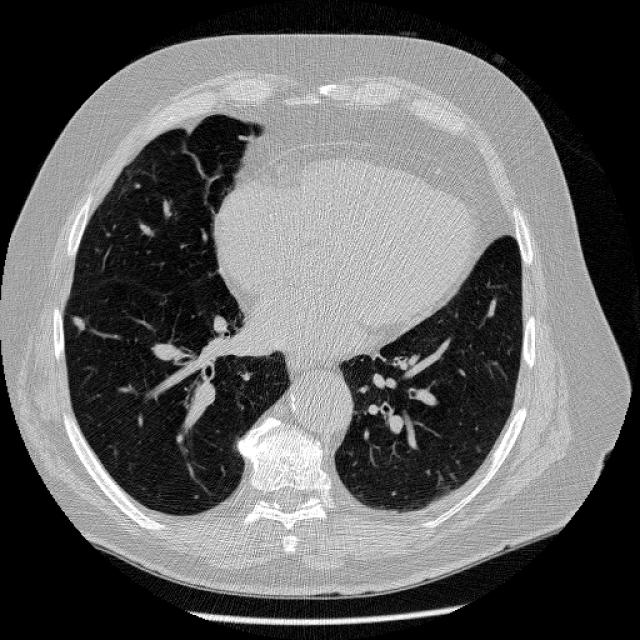nodule: (65, 308, 90, 334)
